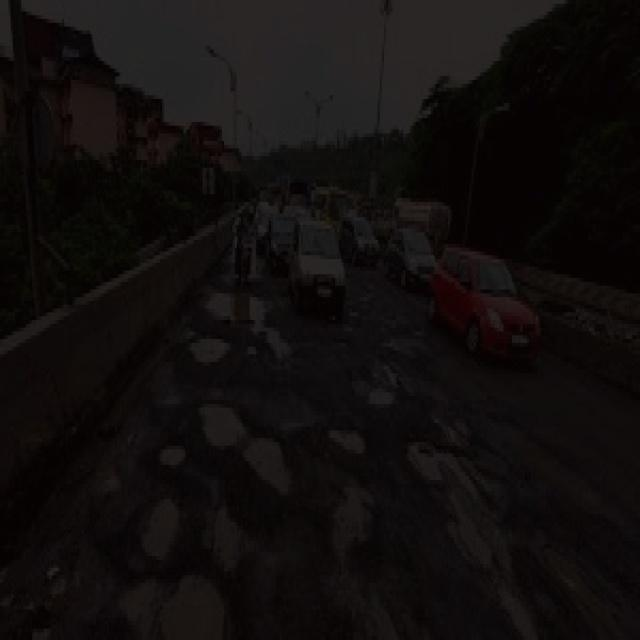Pothole: (404, 424, 576, 637), (205, 279, 296, 362), (122, 478, 194, 576), (243, 416, 303, 504), (324, 474, 376, 567), (164, 562, 224, 640), (199, 496, 254, 578), (187, 396, 257, 458), (110, 570, 172, 640), (325, 412, 379, 459), (359, 356, 404, 412), (135, 434, 191, 472), (182, 329, 230, 369), (387, 328, 435, 368)
